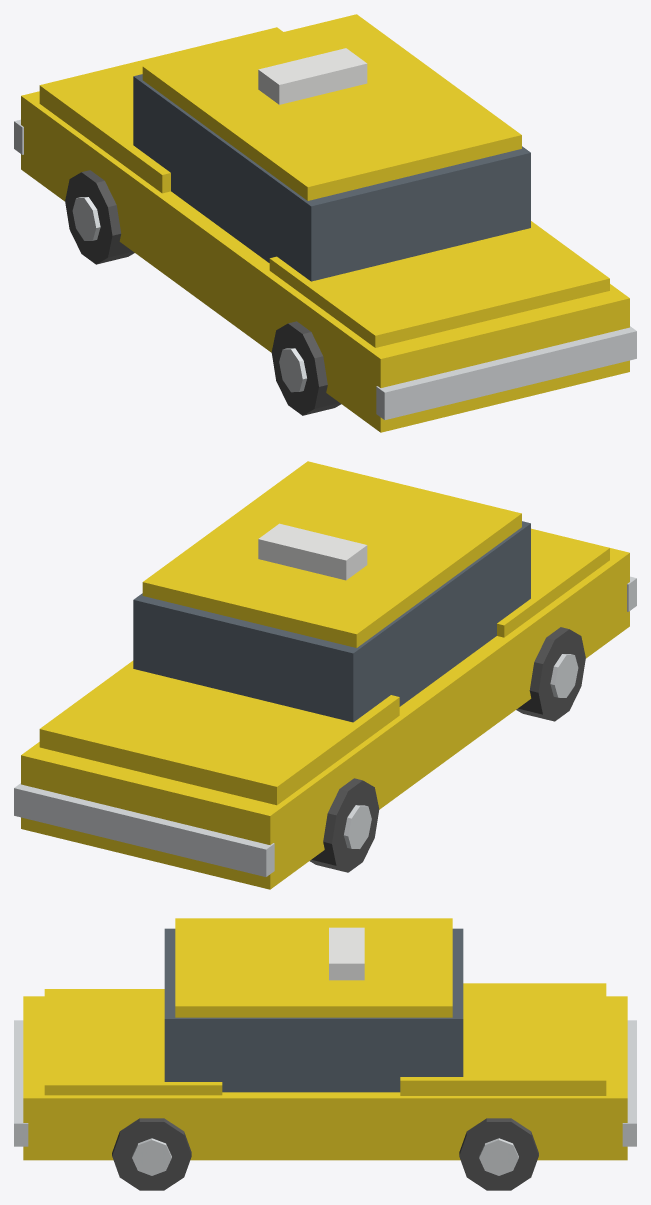
File: yellow_taxi.glb
The picture shows the model from 3 angles, top to bottom: view 1: azimuth 30°, elevation 25°; view 2: azimuth 150°, elevation 25°; view 3: azimuth 270°, elevation 25°; orthographic projection. The views are drawn at different scales.
Visible parts, largest first — view 1: yellow_taxi; view 2: yellow_taxi; view 3: yellow_taxi.
Boxes of the visible parts, x1,y1,x2,y2 form: yellow_taxi: (14, 14, 636, 432); yellow_taxi: (14, 461, 636, 889); yellow_taxi: (14, 918, 636, 1190).
Size of the model in its own units: 1.88 by 1.48 by 4.38.
